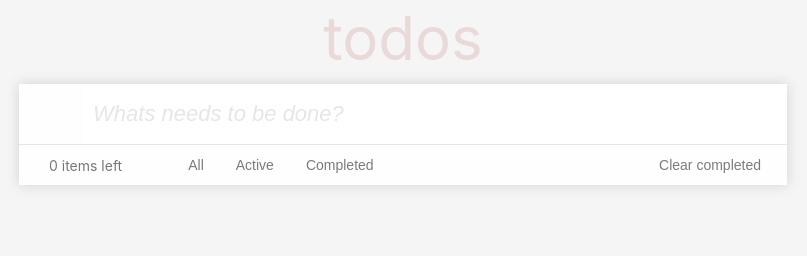
Add todo or not › list todo should 1
The width and height of the screenshot is (807, 256).
In the field: {"x": 435, "y": 114} [83, 84, 787, 144], type "new task"
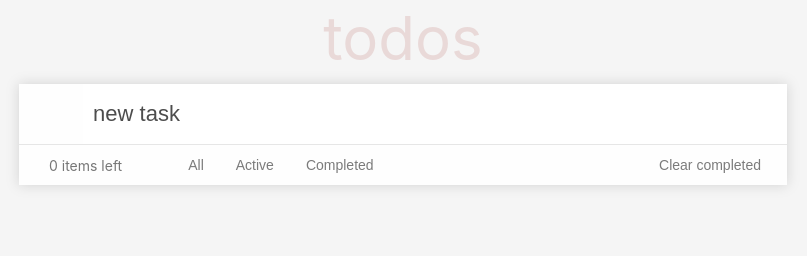
Press Enter in the field, box [83, 84, 787, 144]
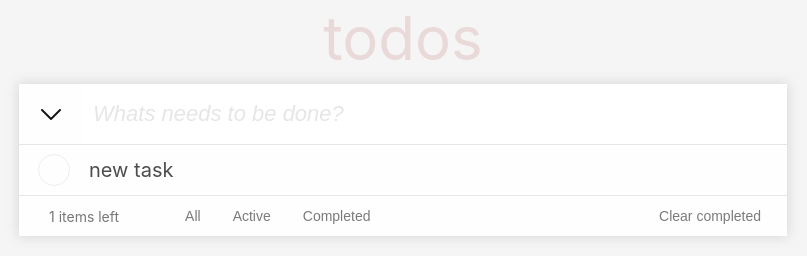
Now the text "1 items left" is shown, box [49, 208, 119, 224]
